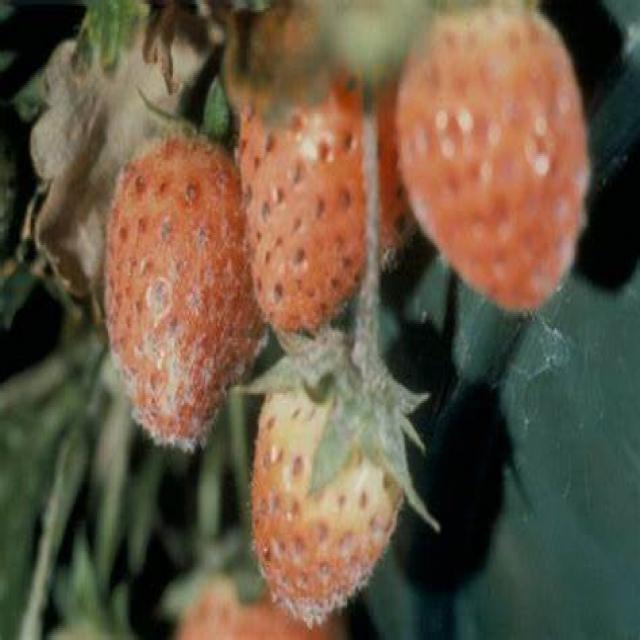Oído: (396, 15, 593, 326), (102, 93, 264, 454), (236, 18, 406, 334), (251, 343, 402, 636)
